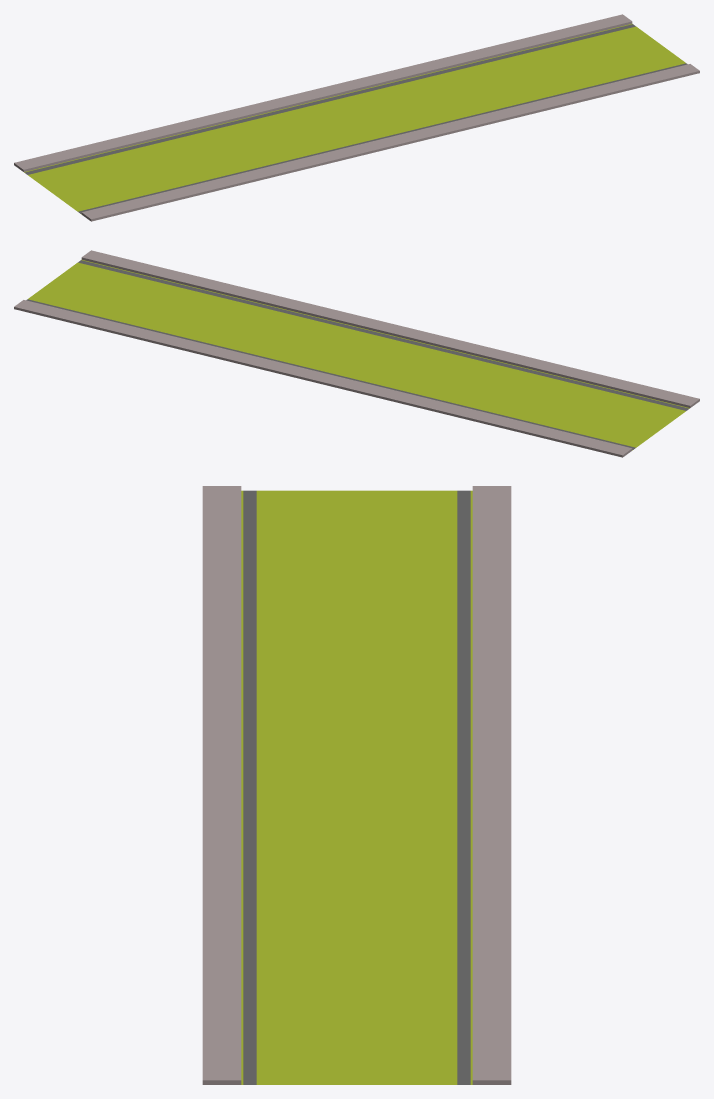
The model's file is grass_sidewalk.fbx.
3 views of the same model, one above another, from view 1: azimuth 30°, elevation 25°; view 2: azimuth 150°, elevation 25°; view 3: azimuth 270°, elevation 25° (orthographic). The views are drawn at different scales.
Parts seen in each view (by area): view 1: Grass_Sidewalk; view 2: Grass_Sidewalk; view 3: Grass_Sidewalk.
Part boxes in pixels (x1,y1,x2,y2): Grass_Sidewalk: [14, 14, 699, 221]; Grass_Sidewalk: [14, 250, 699, 457]; Grass_Sidewalk: [202, 486, 511, 1084].
Size of the model in its own units: 2884 by 10.42 by 634.
